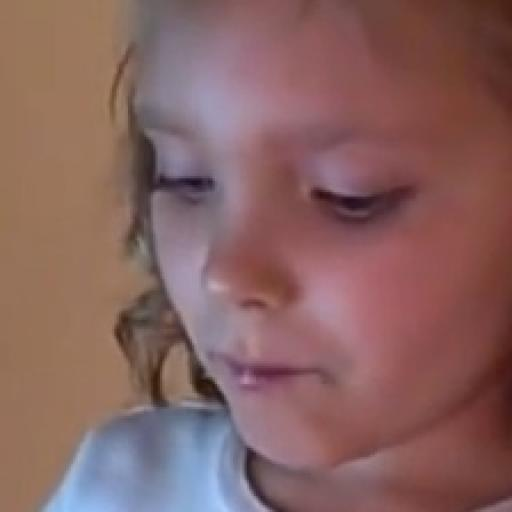Autism: (114, 0, 512, 457)
